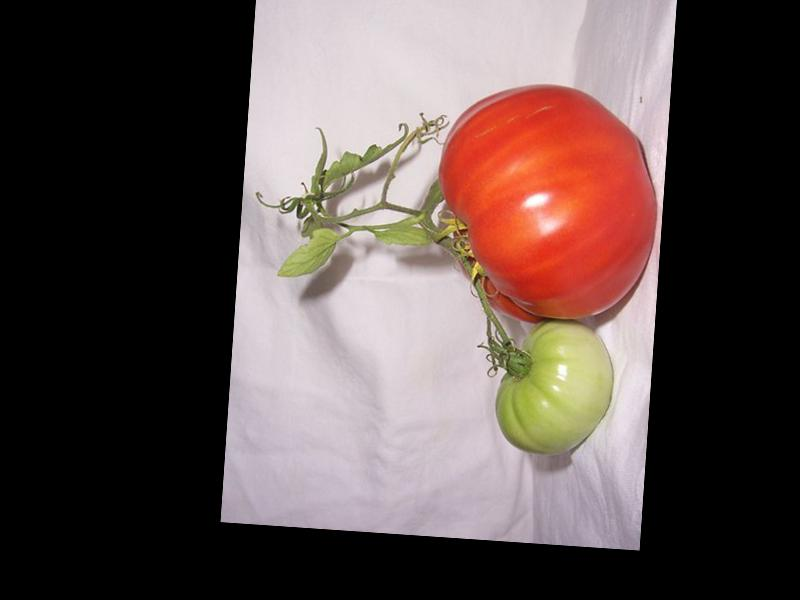Tomato: (429, 77, 663, 331)
